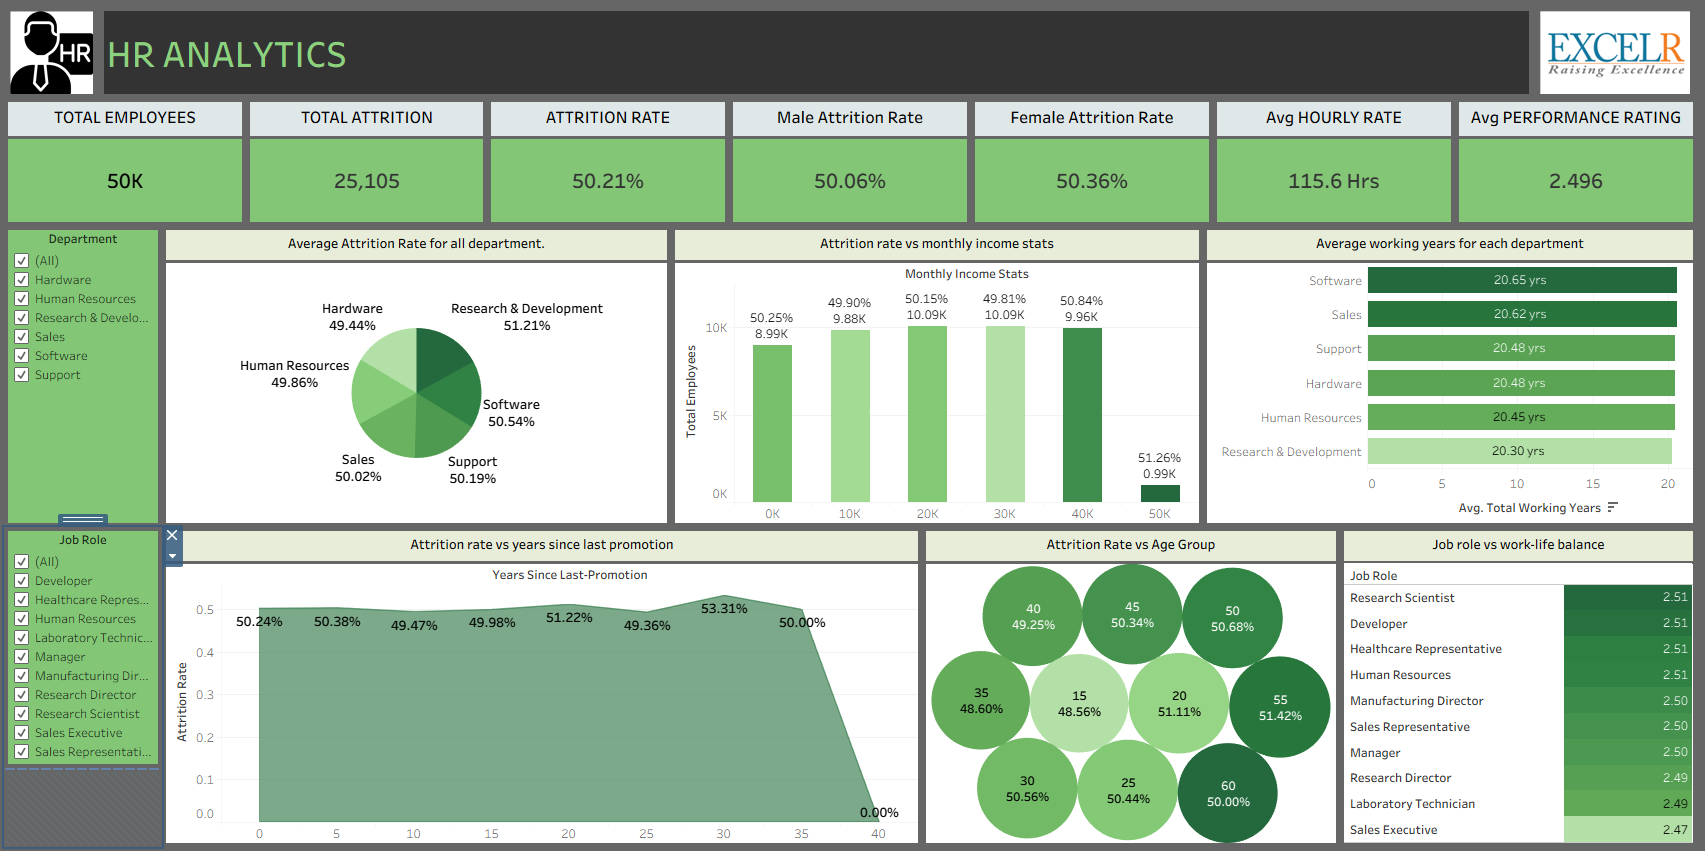

This screenshot's page, from the dashboard's own definition file:
{"tool":"tableau","page":{"name":"HR ANALYTICS","canvas":[1000,1000],"units":"permille","ordinal":0},"visuals":[{"type":"image","param":"Image/hr-manager-black-glyph-icon-coordinates-recruitment-process-human-resource","box":[4.8,10,56.1,106.1]},{"type":"title","box":[61,10,838.3,106.1]},{"type":"image","param":"Image/Image20250526154934.png","box":[899.2,10,96,106.1]},{"type":"worksheet","title":"KPI (2)","mark":"Automatic","box":[4.8,116.1,141.5,149.8]},{"type":"worksheet","title":"KPI","mark":"Automatic","box":[146.3,116.1,141.5,149.8]},{"type":"worksheet","title":"KPI (4)","mark":"Automatic","box":[287.8,116.1,141.5,149.8]},{"type":"worksheet","title":"KPI (6)","mark":"Automatic","box":[429.2,116.1,141.5,149.8]},{"type":"worksheet","title":"KPI (7)","mark":"Automatic","box":[570.7,116.1,141.5,149.8]},{"type":"worksheet","title":"KPI (3)","mark":"Automatic","box":[712.2,116.1,141.5,149.8]},{"type":"worksheet","title":"KPI (5)","mark":"Automatic","box":[853.6,116.1,141.5,149.8]},{"type":"filter","title":"Average Attrition Rate for all department.","param":"[federated.1351uje00w4ev41bkiqwd1rhjftp].[none:Department:nk]","box":[4.8,265.9,92.3,350.8]},{"type":"worksheet","title":"Average Attrition Rate for all department.","mark":"Pie","box":[97.2,265.9,307.2,350.8]},{"type":"worksheet","title":"Attrition rate vs monthly income stats","mark":"Automatic","rows":["Calculation_776307987345670146"],"cols":["Monthly Income (bin)"],"box":[404.3,265.9,321.1,350.8]},{"type":"worksheet","title":"Average working years for each department","mark":"Automatic","rows":["Department"],"cols":["TotalWorkingYears"],"box":[725.4,265.9,269.8,350.8]},{"type":"filter","title":"Job role vs work-life balance","param":"[federated.1351uje00w4ev41bkiqwd1rhjftp].[none:JobRole:nk]","box":[4.8,616.7,92.3,360.8]},{"type":"worksheet","title":"Attrition rate vs years since last promotion","mark":"Area","rows":["Calculation_776307987346313219"],"cols":["Years Since Last Promotion (bin)"],"box":[97.2,616.7,458.7,373.3]},{"type":"worksheet","title":"Attrition Rate vs Age Group","mark":"Circle","box":[555.8,616.7,230.6,373.3]},{"type":"worksheet","title":"Job role vs work-life balance","mark":"Square","rows":["JobRole"],"box":[786.4,616.7,208.7,373.3]}]}

Visuals, with their boxes on the dashboard's canvas, which has no fixed pixel size, in thousandths of its width and height (x1, y1, x2, y2). These are canvas units, not pixel positions in the 1705x851 screenshot, which may show the page scaled, cropped or inside an application window:
image: 5, 10, 61, 116
title: 61, 10, 899, 116
image: 899, 10, 995, 116
"KPI (2)" worksheet: 5, 116, 146, 266
"KPI" worksheet: 146, 116, 288, 266
"KPI (4)" worksheet: 288, 116, 429, 266
"KPI (6)" worksheet: 429, 116, 571, 266
"KPI (7)" worksheet: 571, 116, 712, 266
"KPI (3)" worksheet: 712, 116, 854, 266
"KPI (5)" worksheet: 854, 116, 995, 266
"Average Attrition Rate for all department." filter: 5, 266, 97, 617
"Average Attrition Rate for all department." worksheet (Pie marks): 97, 266, 404, 617
"Attrition rate vs monthly income stats" worksheet: 404, 266, 725, 617
"Average working years for each department" worksheet: 725, 266, 995, 617
"Job role vs work-life balance" filter: 5, 617, 97, 978
"Attrition rate vs years since last promotion" worksheet (Area marks): 97, 617, 556, 990
"Attrition Rate vs Age Group" worksheet (Circle marks): 556, 617, 786, 990
"Job role vs work-life balance" worksheet (Square marks): 786, 617, 995, 990
